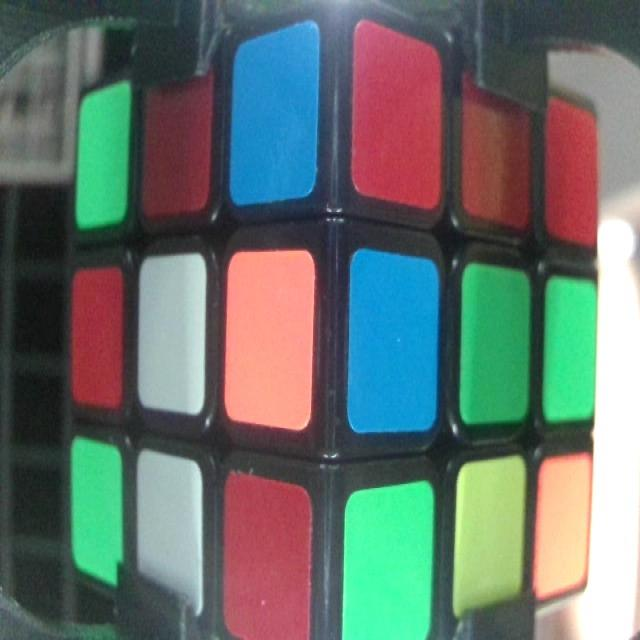b: (352, 275, 436, 416), (235, 65, 315, 184)
g: (346, 506, 429, 622), (464, 277, 528, 410), (546, 281, 594, 416), (74, 458, 122, 570), (80, 99, 125, 209)
o: (227, 276, 312, 400), (540, 474, 588, 574)
r: (355, 47, 440, 189), (227, 480, 304, 634), (466, 97, 530, 217), (144, 93, 208, 203), (77, 270, 120, 399), (549, 124, 596, 232)
w: (137, 472, 203, 602), (142, 268, 202, 401)
y: (460, 476, 521, 596)
